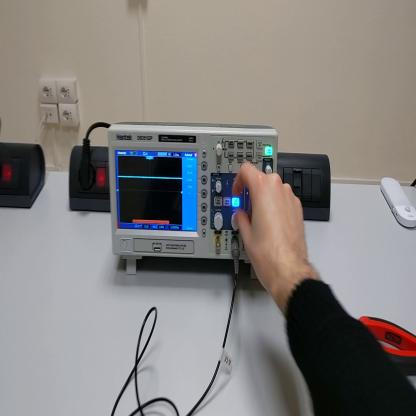hand: (232, 159, 311, 296)
oscilloscope: (107, 124, 279, 282)
pliers: (362, 312, 416, 378)
socket: (2, 140, 47, 212), (69, 144, 112, 217)
